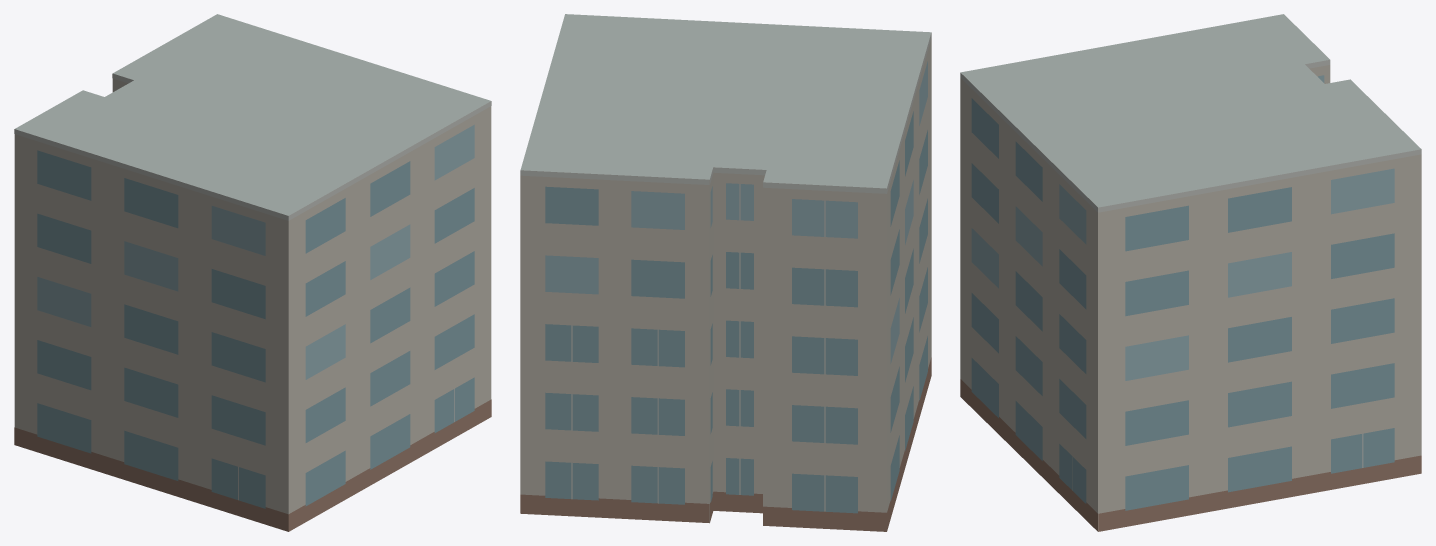
The model's file is survey-upis-32881075.glb.
3 renders of one model, left to right at view 1: azimuth 30°, elevation 25°; view 2: azimuth 150°, elevation 25°; view 3: azimuth 270°, elevation 25°, orthographic. The views are drawn at different scales.
Visible parts, largest first — view 1: survey-upis-32881075.tmp; view 2: survey-upis-32881075.tmp; view 3: survey-upis-32881075.tmp.
Part boxes in pixels (left/top/right/bottom): survey-upis-32881075.tmp: left=14, top=14, right=491, bottom=531; survey-upis-32881075.tmp: left=520, top=14, right=931, bottom=531; survey-upis-32881075.tmp: left=960, top=14, right=1421, bottom=531.
Bounding box in the file's own units: 19.85 × 15.5 × 19.99.
